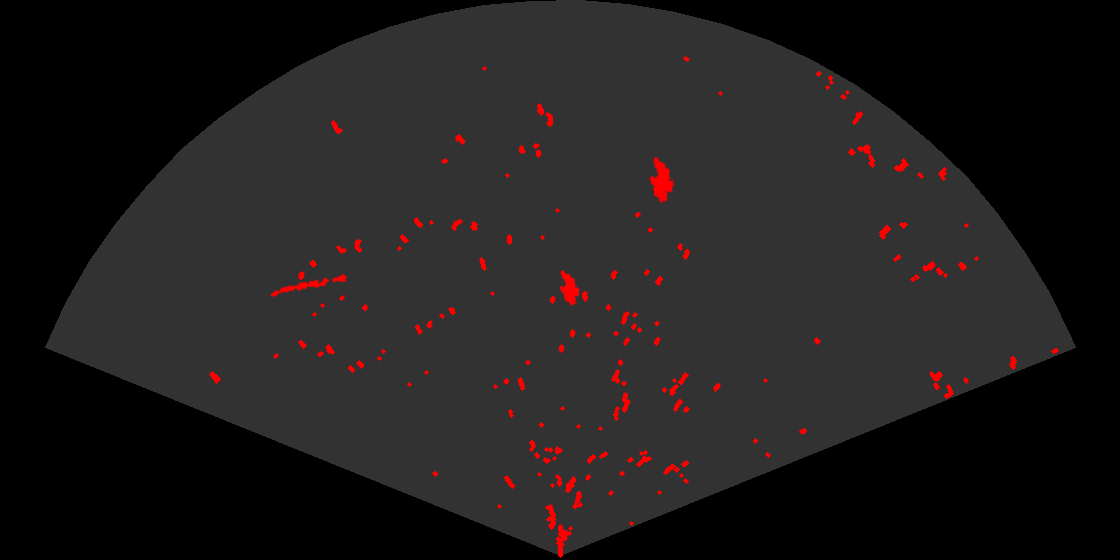AUV: (648, 155, 676, 205), (558, 268, 582, 308)
chain: (268, 272, 349, 298)
